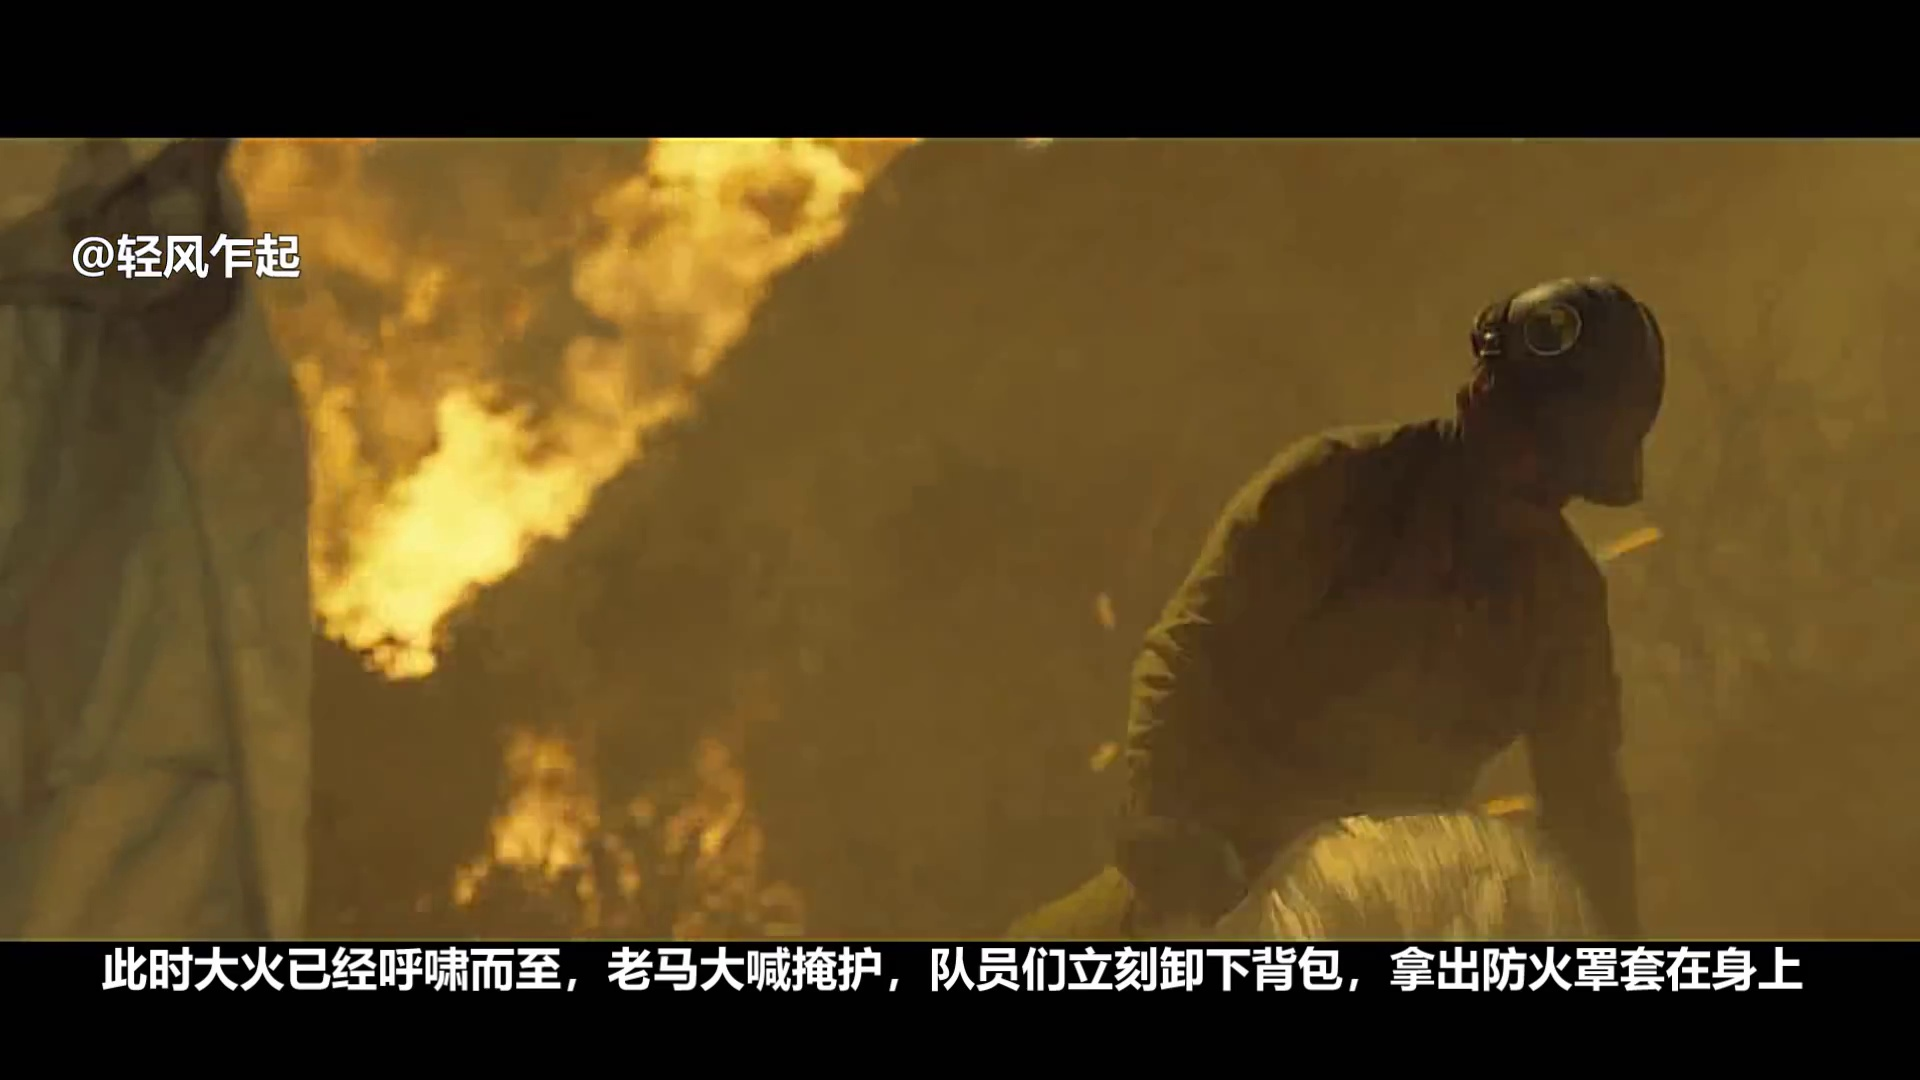fire: (311, 138, 870, 674), (468, 727, 758, 906)
